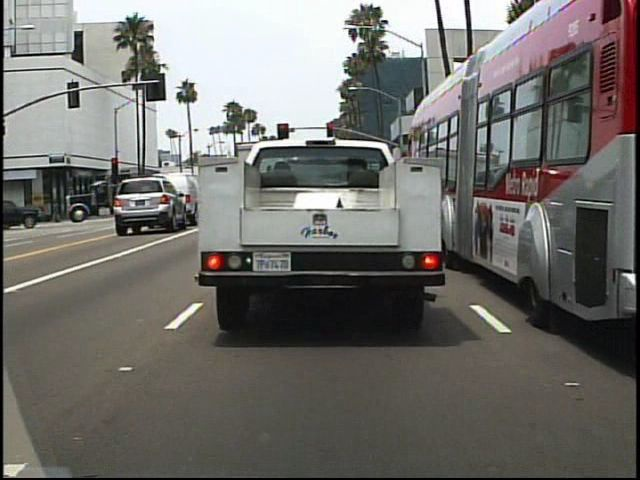person: (35, 195, 51, 225)
